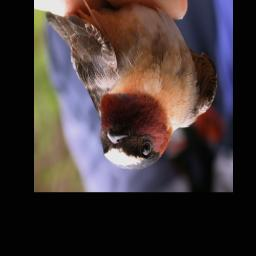Swallow: (46, 0, 216, 170)
